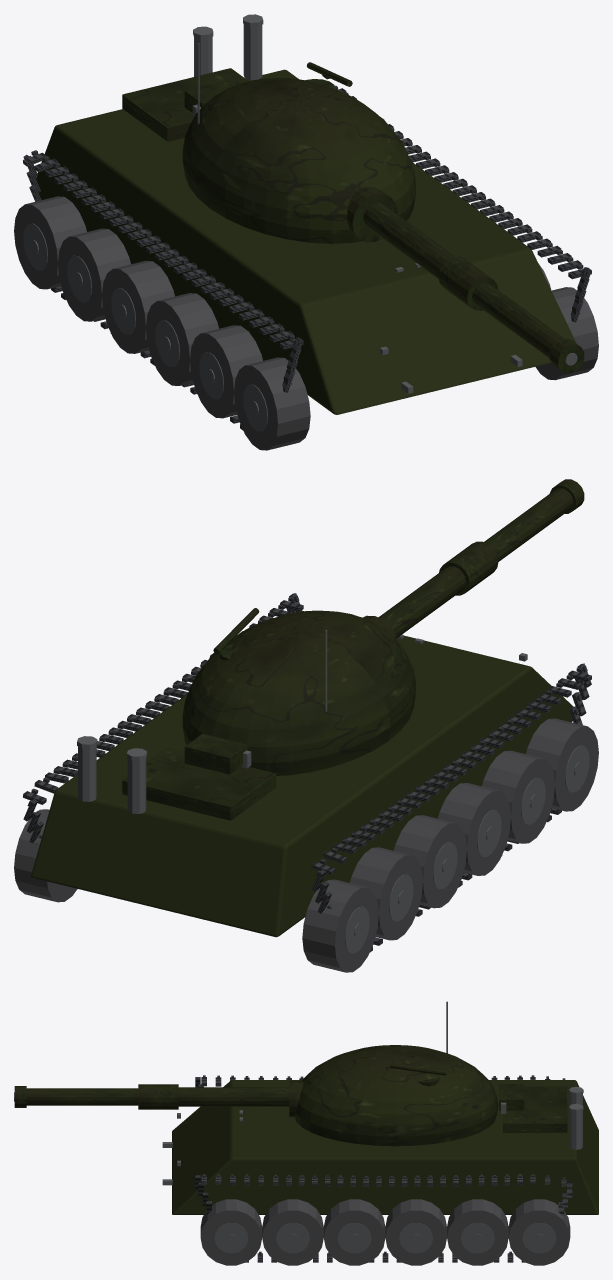
File: vanguard_LOD0.glb
3 views of the same model, one above another, from view 1: azimuth 30°, elevation 25°; view 2: azimuth 150°, elevation 25°; view 3: azimuth 270°, elevation 25° (orthographic). The views are drawn at different scales.
Parts seen in each view (by area): view 1: HullMesh, TurretMesh, Wheels_L, TrackL, TrackR, Gun_tube1, Gun_tube2, Wheels_R, Gun_ext, exh1, Gun_brk, exh-1; view 2: HullMesh, TurretMesh, Wheels_L, TrackL, TrackR, Gun_tube1, Gun_tube2, Wheels_R, Gun_ext, exh-1, exh1; view 3: HullMesh, Wheels_R, TurretMesh, TrackR, Gun_tube1, Gun_tube2, Gun_ext, exh1, TrackL.
Boxes of the visible parts, left/top/right/bottom form: HullMesh: left=36, top=68, right=576, bottom=414; TurretMesh: left=182, top=43, right=415, bottom=243; Wheels_L: left=14, top=196, right=310, bottom=450; TrackL: left=23, top=150, right=303, bottom=430; TrackR: left=334, top=85, right=591, bottom=322; Gun_tube1: left=363, top=202, right=454, bottom=278; Gun_tube2: left=472, top=283, right=580, bottom=369; Wheels_R: left=535, top=263, right=598, bottom=380; Gun_ext: left=438, top=256, right=498, bottom=310; exh1: left=243, top=25, right=262, bottom=80; Gun_brk: left=549, top=338, right=584, bottom=372; exh-1: left=194, top=37, right=212, bottom=76; HullMesh: left=31, top=611, right=573, bottom=937; TurretMesh: left=182, top=608, right=415, bottom=775; Wheels_L: left=302, top=718, right=598, bottom=972; TrackL: left=311, top=663, right=591, bottom=952; TrackR: left=23, top=593, right=303, bottom=843; Gun_tube1: left=378, top=566, right=465, bottom=637; Gun_tube2: left=484, top=488, right=573, bottom=561; Wheels_R: left=14, top=809, right=77, bottom=902; Gun_ext: left=439, top=541, right=498, bottom=595; exh-1: left=127, top=759, right=146, bottom=813; exh1: left=78, top=746, right=96, bottom=801; HullMesh: left=162, top=1080, right=598, bottom=1214; Wheels_R: left=200, top=1199, right=570, bottom=1265; TurretMesh: left=289, top=1001, right=524, bottom=1146; TrackR: left=195, top=1174, right=572, bottom=1262; Gun_tube1: left=178, top=1087, right=289, bottom=1106; Gun_tube2: left=26, top=1088, right=138, bottom=1105; Gun_ext: left=138, top=1084, right=178, bottom=1109; exh1: left=569, top=1111, right=582, bottom=1149; TrackL: left=195, top=1075, right=565, bottom=1087.
Bounding box in the file's own units: 3.91 × 3.08 × 8.74.
5 materials, 3 textured.
